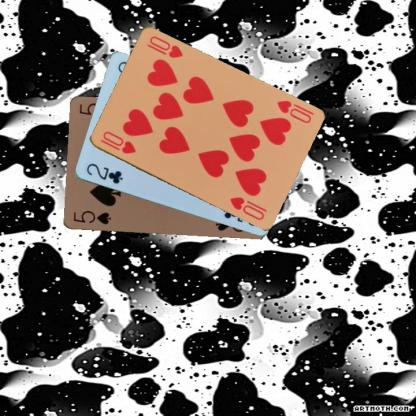10h: (98, 128, 137, 156), (273, 98, 313, 124)
2c: (83, 160, 124, 186)
5s: (70, 208, 112, 226)
